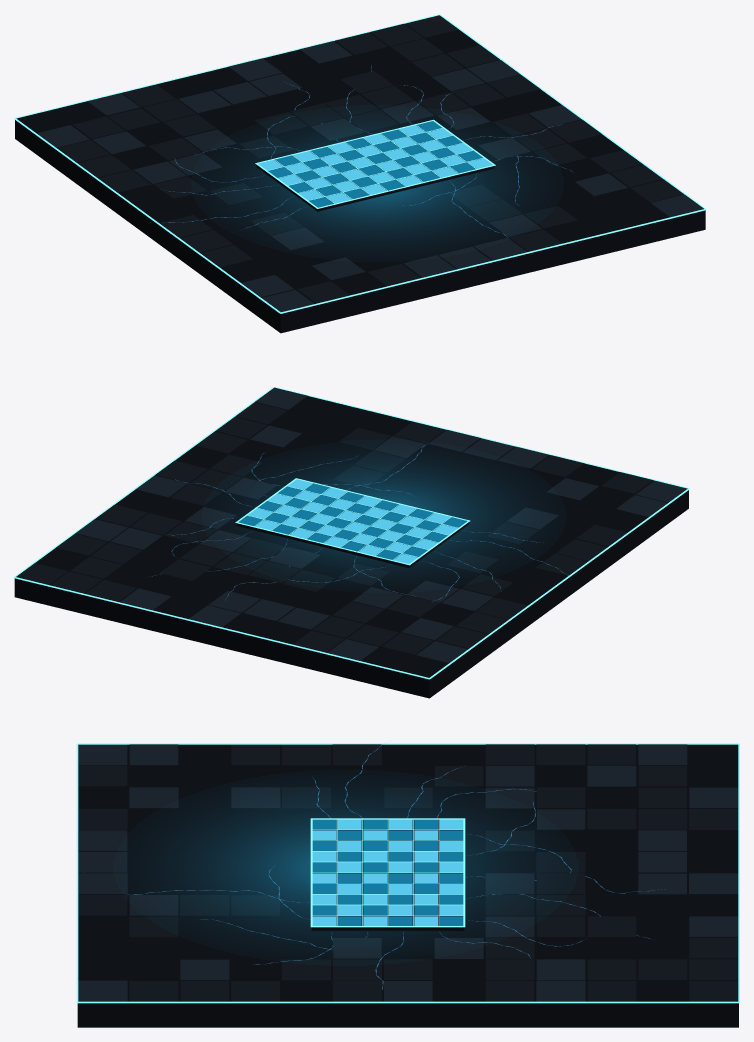
File: plateau-data.glb
3 renders of one model, top to bottom at view 1: azimuth 30°, elevation 25°; view 2: azimuth 150°, elevation 25°; view 3: azimuth 270°, elevation 25°, orthographic. The views are drawn at different scales.
Visible parts, largest first — view 1: Ground_Base, Ground_Tiles, Pad_Cells, Ground_Glow, Ground_Edge, Pad_Grid, Pad_Base, Pad_Border, Ground_Cracks; view 2: Ground_Base, Ground_Tiles, Pad_Cells, Ground_Glow, Ground_Edge, Pad_Grid, Pad_Base, Pad_Border, Ground_Cracks; view 3: Ground_Base, Ground_Tiles, Pad_Cells, Ground_Glow, Ground_Edge, Pad_Base, Pad_Grid, Pad_Border, Ground_Cracks.
Boxes of the visible parts, x1=… form: Ground_Base: x1=15, y1=23, x2=705, y2=333; Ground_Tiles: x1=37, y1=15, x2=703, y2=312; Pad_Cells: x1=258, y1=121, x2=492, y2=207; Ground_Glow: x1=266, y1=137, x2=488, y2=230; Ground_Edge: x1=14, y1=14, x2=706, y2=313; Pad_Grid: x1=268, y1=125, x2=483, y2=203; Pad_Base: x1=256, y1=125, x2=494, y2=211; Pad_Border: x1=255, y1=119, x2=495, y2=208; Ground_Cracks: x1=150, y1=66, x2=571, y2=237; Ground_Base: x1=14, y1=396, x2=688, y2=698; Ground_Tiles: x1=16, y1=387, x2=687, y2=663; Pad_Cells: x1=238, y1=479, x2=467, y2=563; Ground_Glow: x1=290, y1=471, x2=492, y2=561; Ground_Edge: x1=14, y1=387, x2=689, y2=679; Pad_Grid: x1=247, y1=483, x2=458, y2=559; Pad_Base: x1=236, y1=483, x2=469, y2=568; Pad_Border: x1=235, y1=478, x2=470, y2=565; Ground_Cracks: x1=152, y1=444, x2=571, y2=601; Ground_Base: x1=77, y1=744, x2=738, y2=1027; Ground_Tiles: x1=78, y1=744, x2=738, y2=1001; Pad_Cells: x1=312, y1=819, x2=463, y2=925; Ground_Glow: x1=208, y1=809, x2=483, y2=923; Ground_Edge: x1=76, y1=743, x2=739, y2=1003; Pad_Base: x1=311, y1=819, x2=464, y2=931; Pad_Grid: x1=312, y1=819, x2=463, y2=925; Pad_Border: x1=310, y1=818, x2=465, y2=927; Ground_Cracks: x1=133, y1=744, x2=664, y2=989.
Size of the model in its own units: 26 by 1.31 by 28.53.
Materials: 9 (2 with a texture image).
